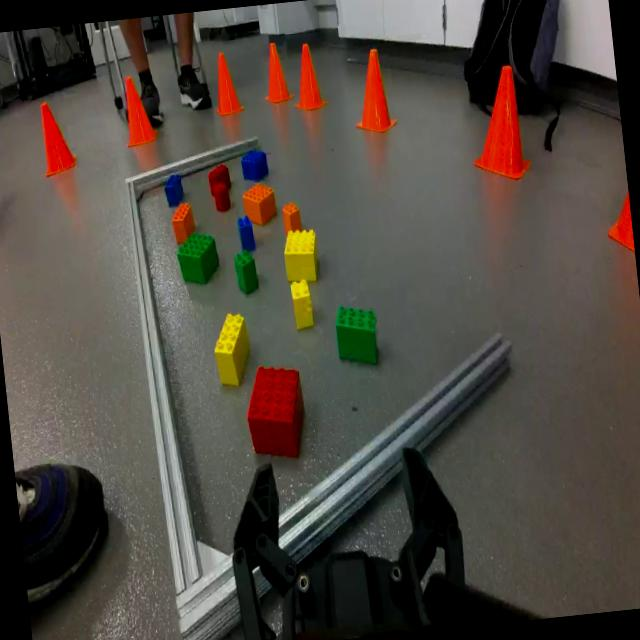block: (208, 309, 254, 388), (280, 225, 321, 285), (289, 278, 316, 334)
blue: (240, 147, 270, 181), (234, 215, 260, 252), (162, 170, 186, 206)
cone: (461, 60, 536, 186), (350, 44, 398, 138), (116, 68, 159, 152), (37, 94, 77, 179), (206, 46, 246, 118), (290, 41, 328, 115), (260, 39, 292, 99)
green: (327, 301, 388, 371), (173, 230, 223, 290), (231, 249, 261, 296)
metal barrier: (124, 131, 512, 640)
orange: (240, 178, 278, 229), (169, 200, 198, 240), (280, 198, 304, 238)
red goal: (242, 361, 311, 462), (205, 162, 233, 194), (212, 179, 230, 212)
